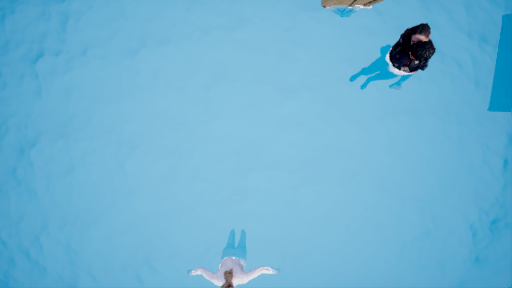person: (359, 19, 437, 93), (198, 226, 266, 288)
